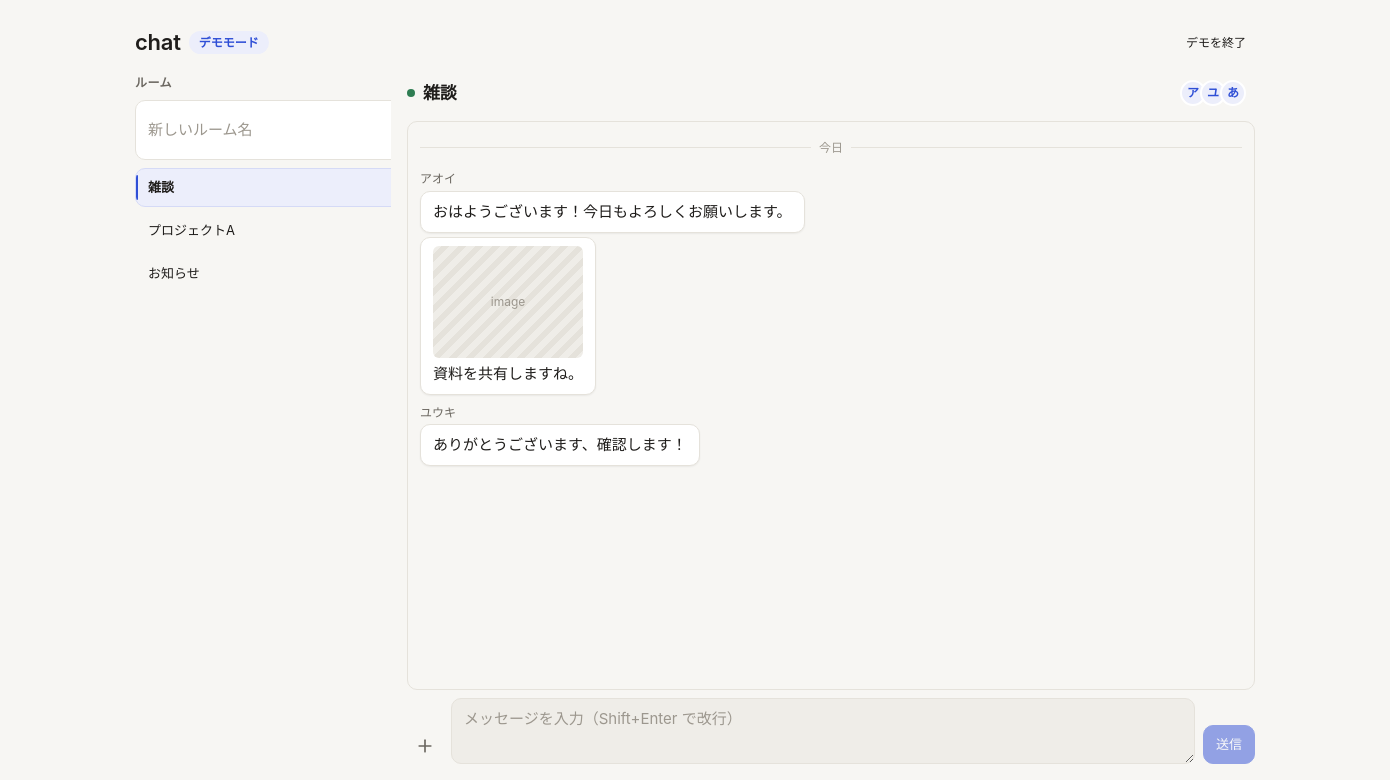
Test: 画像添付ダミーは最大 4 枚まで追加できる
This screenshot has width=1390, height=780.
＋メニューから 1 枚目を追加する。
Click the button named "画像を添付".
click(425, 746)  # box [407, 728, 443, 764]
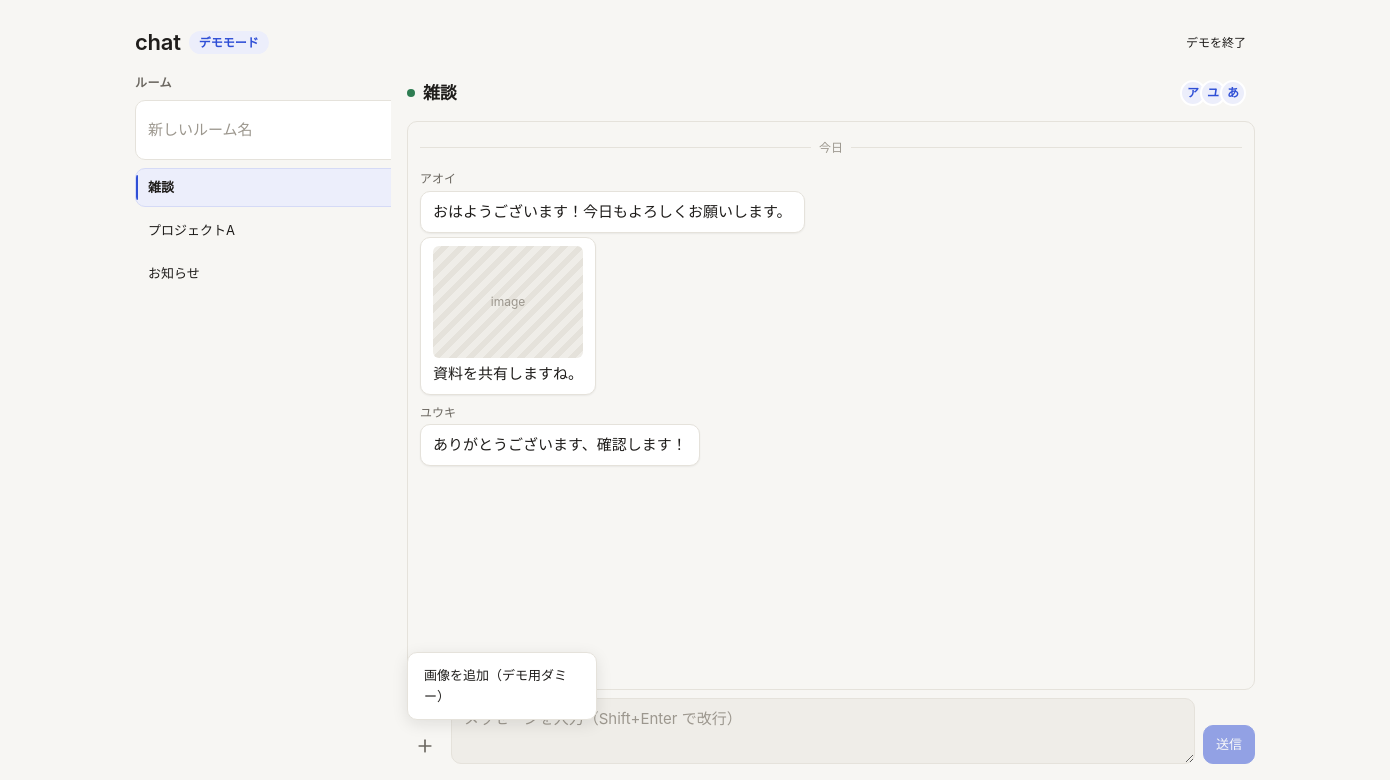
Click the menu item "画像を追加（デモ用ダミー）".
click(502, 686)  # box [412, 657, 592, 715]
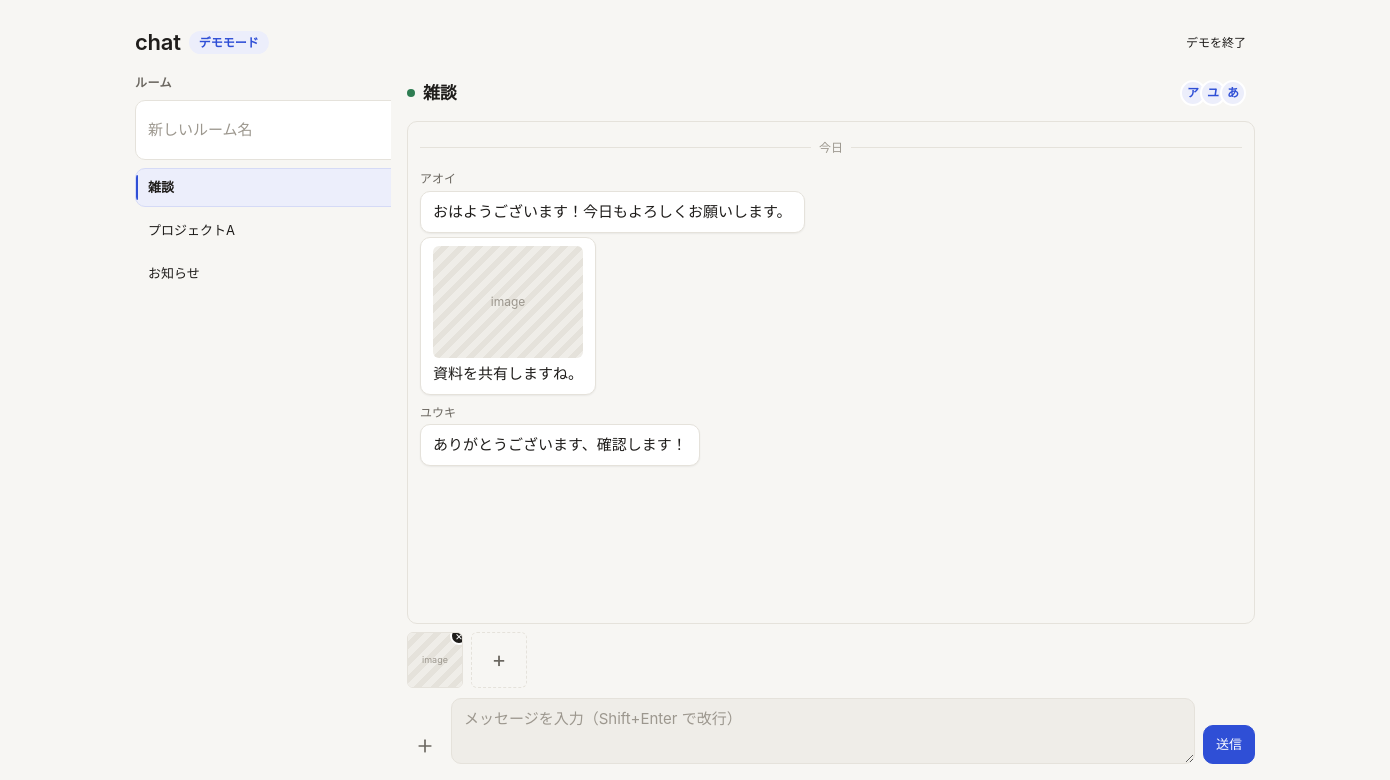
以降は末尾の「＋」ボタンから追加し、4 枚に達したら「＋」は消える。
Click the button named "画像を追加".
click(499, 660)  # box [471, 632, 527, 688]
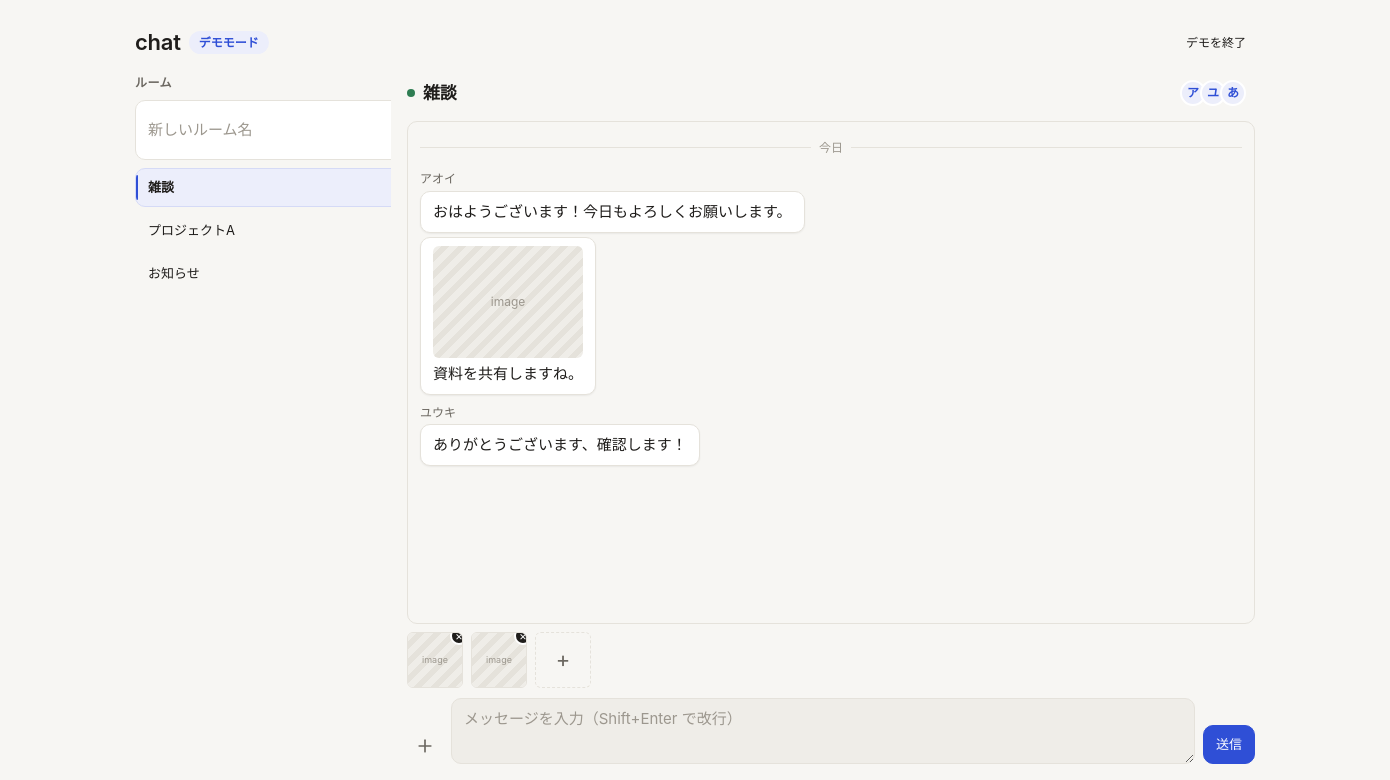
Click the button named "画像を追加".
click(563, 660)  # box [535, 632, 591, 688]
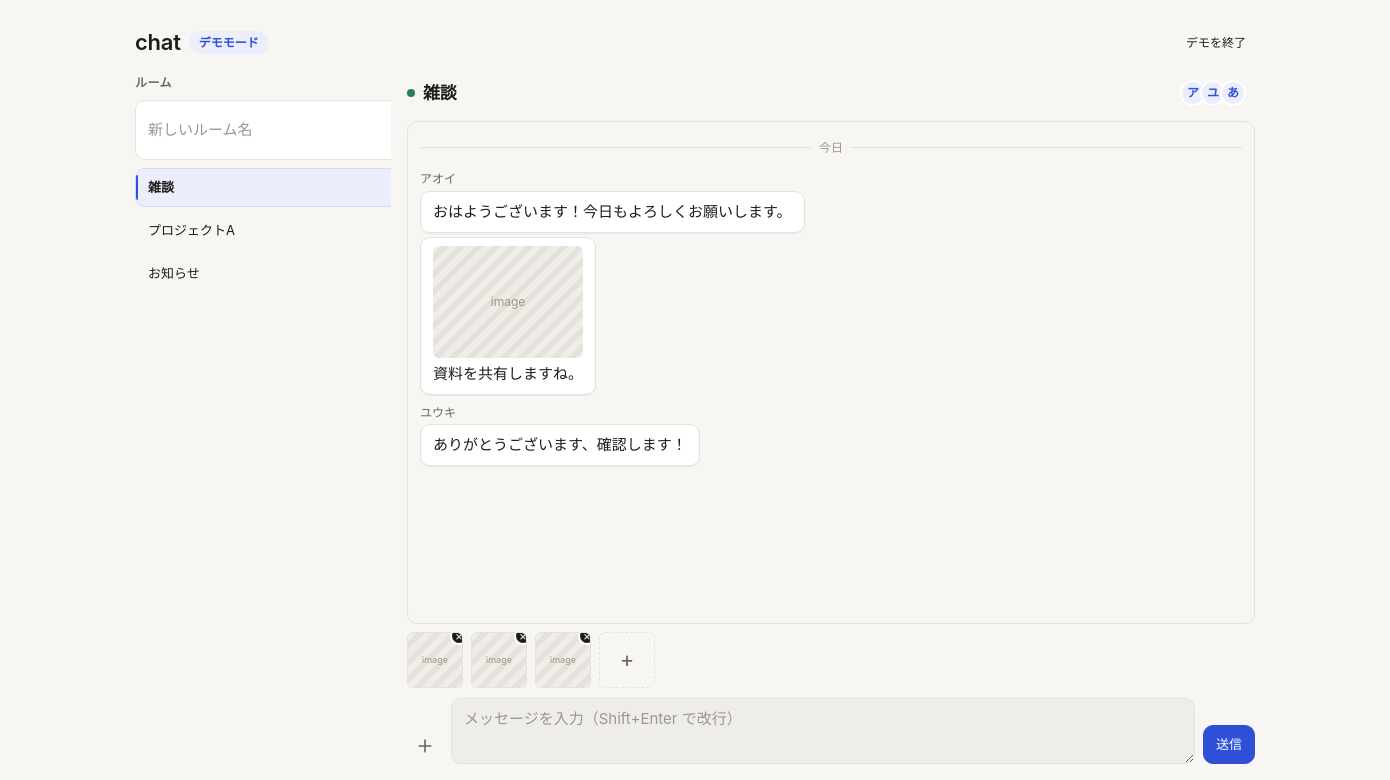
Click the button named "画像を追加".
click(627, 660)  # box [599, 632, 655, 688]
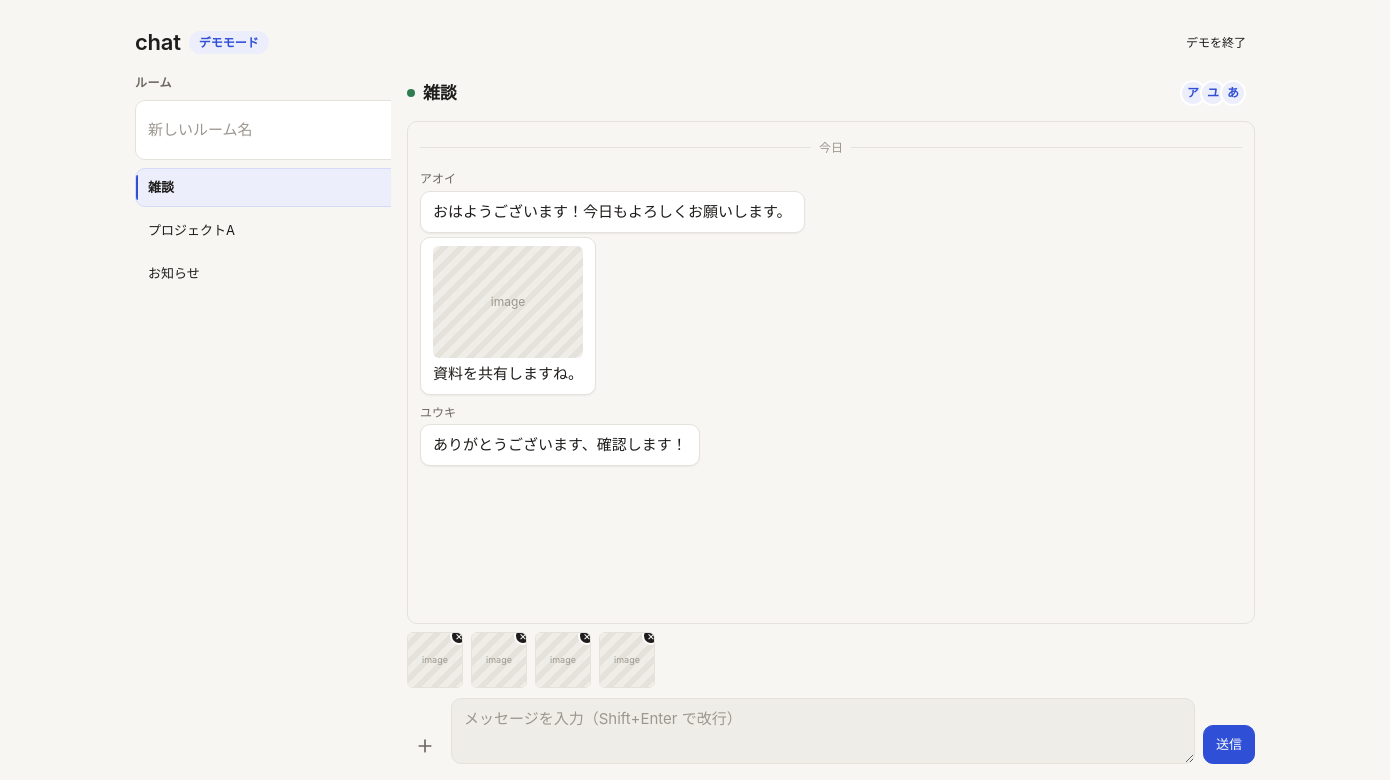
Now the button labelled "画像を追加" is gone
上限到達後は、ペーパークリップのメニュー項目も無効化される。
Click the button named "画像を添付".
click(425, 746)  # box [407, 728, 443, 764]
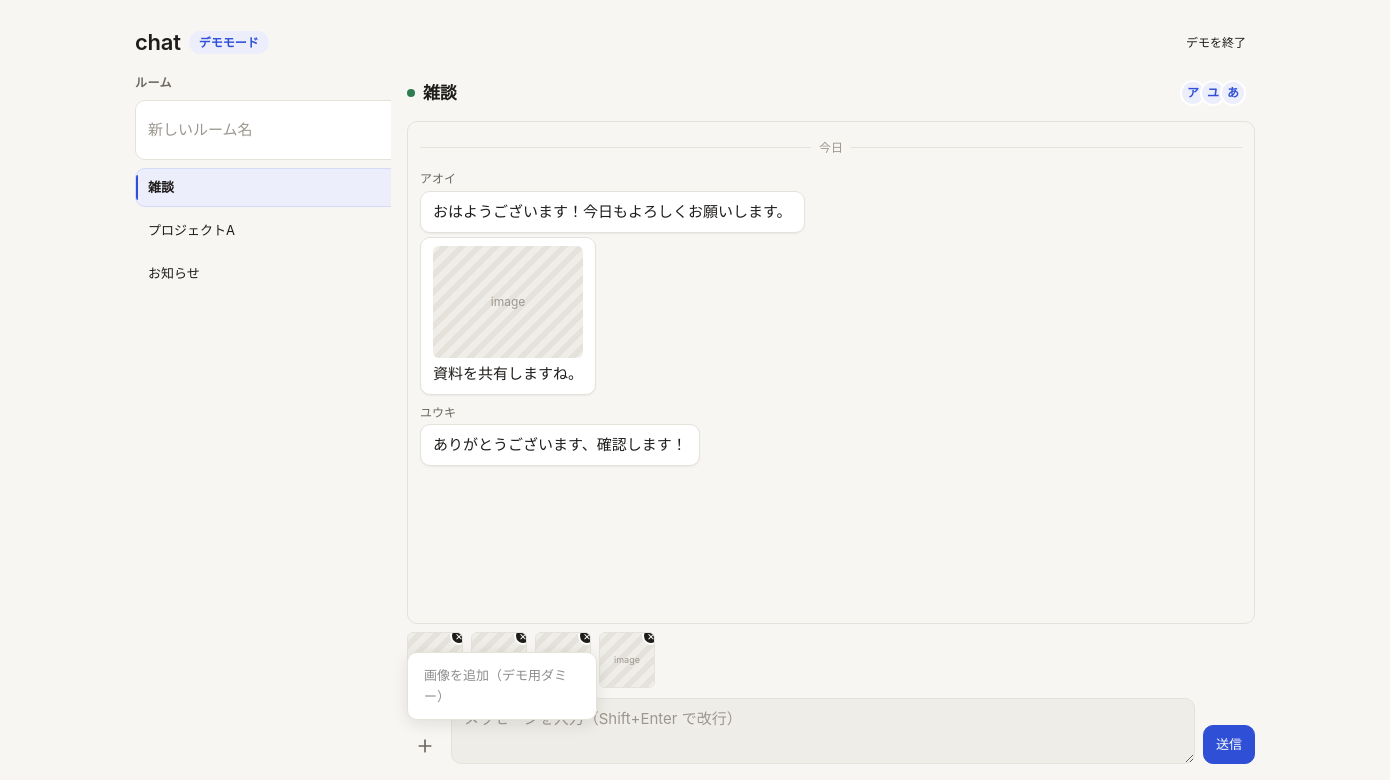
Now the menu item "画像を追加（デモ用ダミー）" is disabled, box [412, 657, 592, 715]
